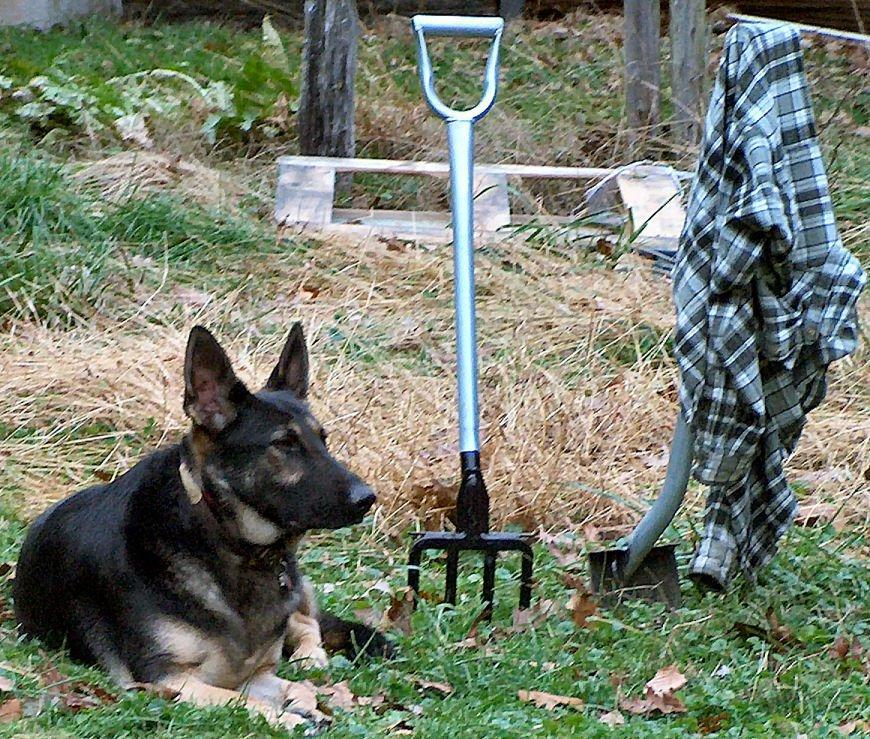German_shepherd: (14, 320, 396, 727)
